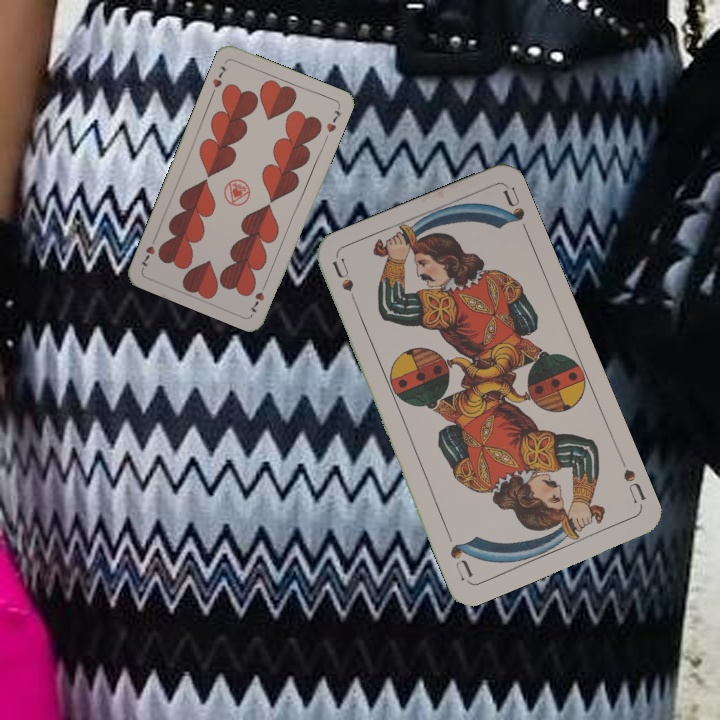H7: (246, 278, 270, 315), (209, 62, 230, 90)
SU: (619, 465, 649, 506), (328, 254, 356, 294)
